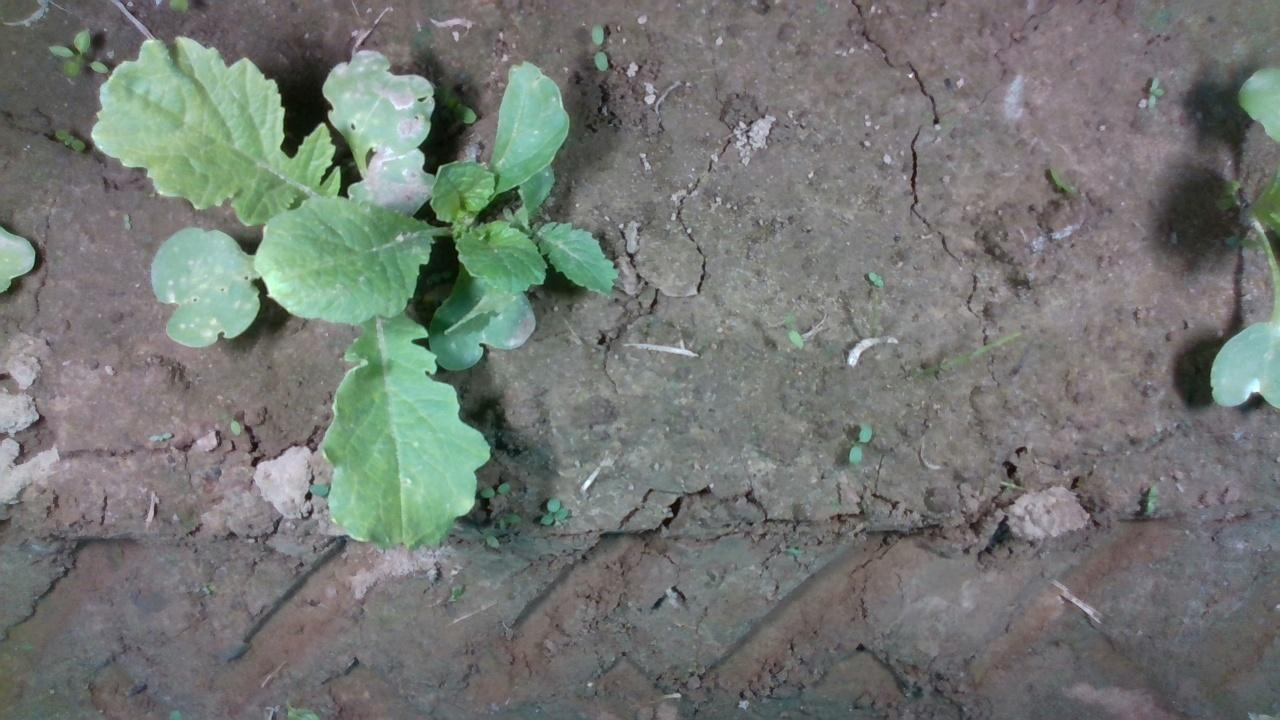weed: (846, 420, 872, 466), (589, 20, 609, 71), (52, 125, 85, 151), (1143, 73, 1164, 110), (477, 480, 510, 498), (866, 269, 884, 288), (146, 430, 172, 442), (121, 210, 131, 232)
